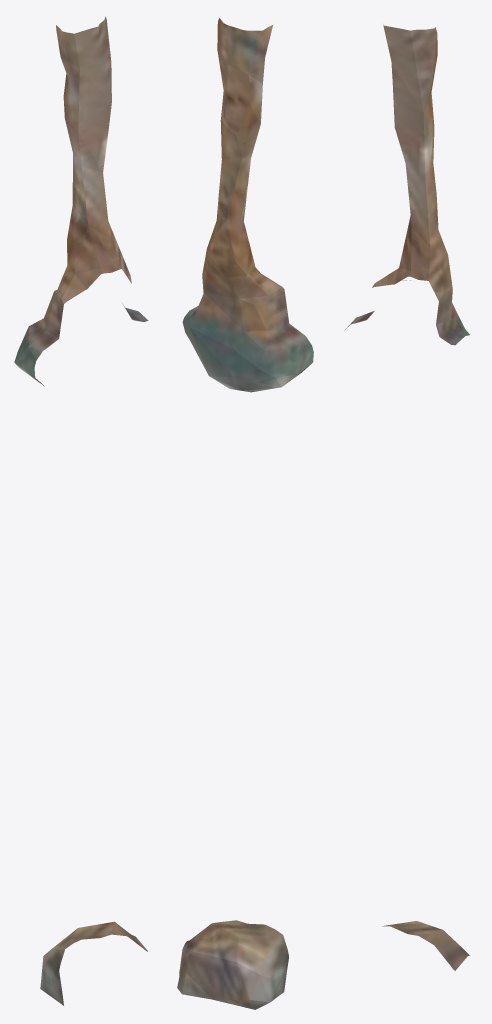
The model's file is Tile_+004_+001_L21_0003400.glb.
3 renders of one model, left to right at view 1: azimuth 30°, elevation 25°; view 2: azimuth 150°, elevation 25°; view 3: azimuth 330°, elevation 25°, orthographic.
Parts seen in each view (by area): view 1: rtc; view 2: rtc; view 3: rtc.
Boxes of the visible parts, left/top/right/bottom form: rtc: left=14, top=16, right=148, bottom=1005; rtc: left=177, top=17, right=313, bottom=1009; rtc: left=344, top=24, right=469, bottom=970.
Size of the model in its own units: 2.12 by 17.17 by 1.01.
1 material, 1 textured.
